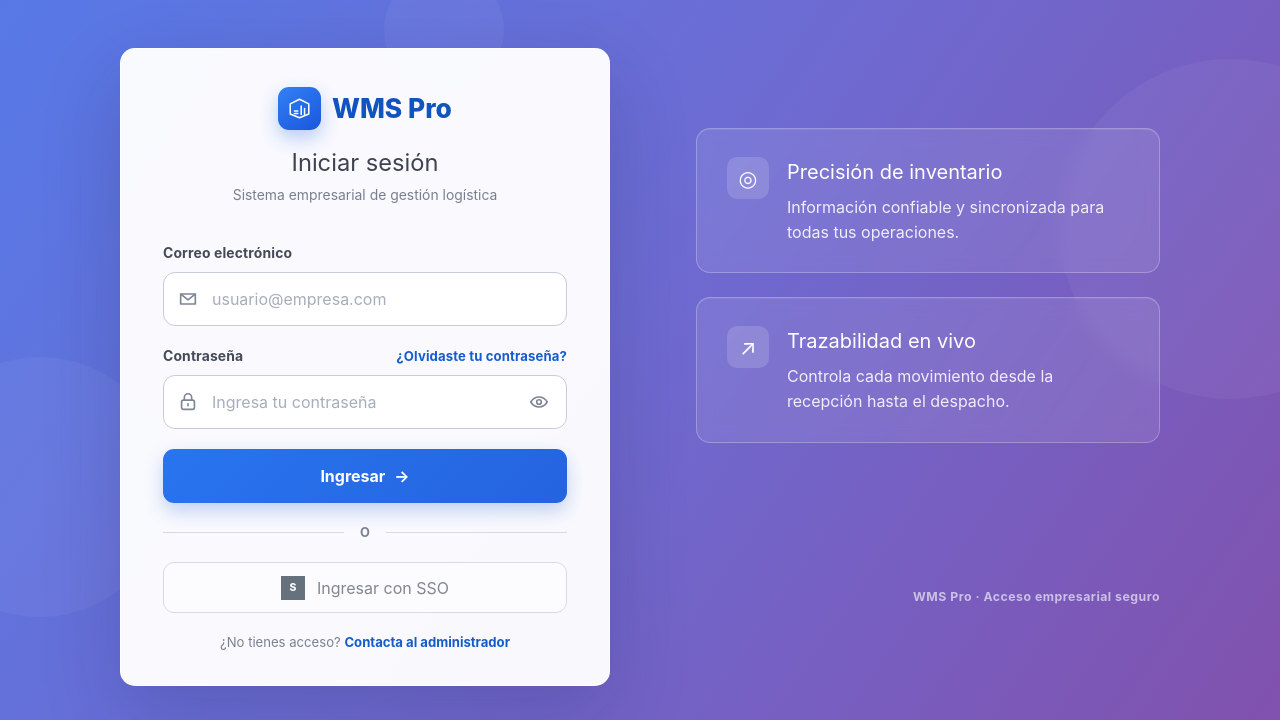
Login › requires both credentials before submitting
Click the button "Ingresar →" at (365, 476), box [163,449,567,503]
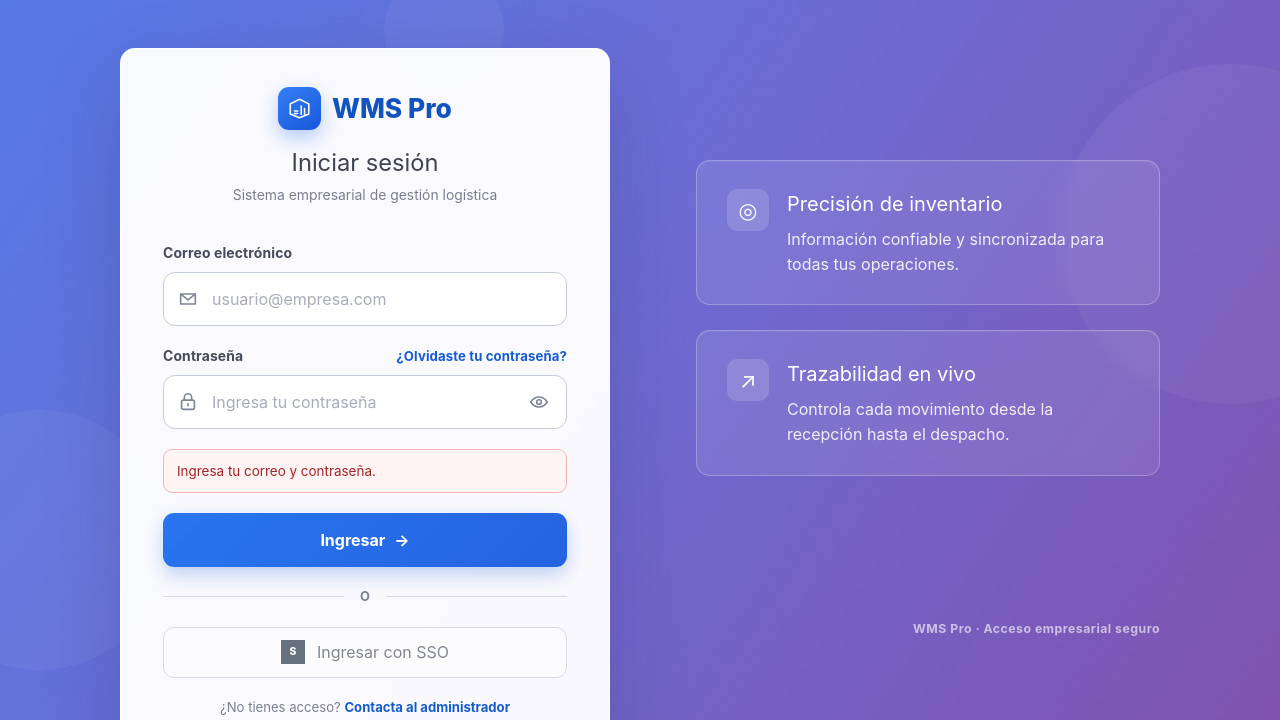
Expected: the message reads "Ingresa tu correo y contraseña.", [177,463,376,479]
